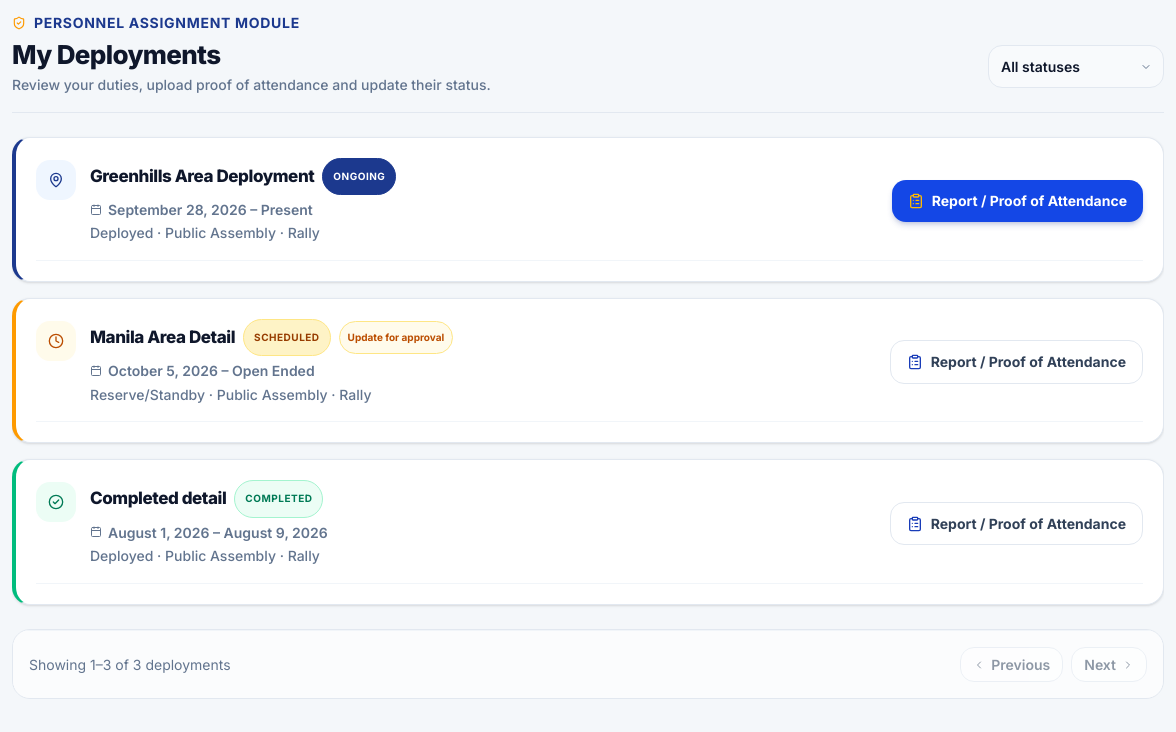
Test: EmployeeDeploymentList › shows a direct empty state for a status with no deployments
Select "Cancelled" in the dropdown named "Filter Status" at [1076, 67], box 988,45 -> 1164,88
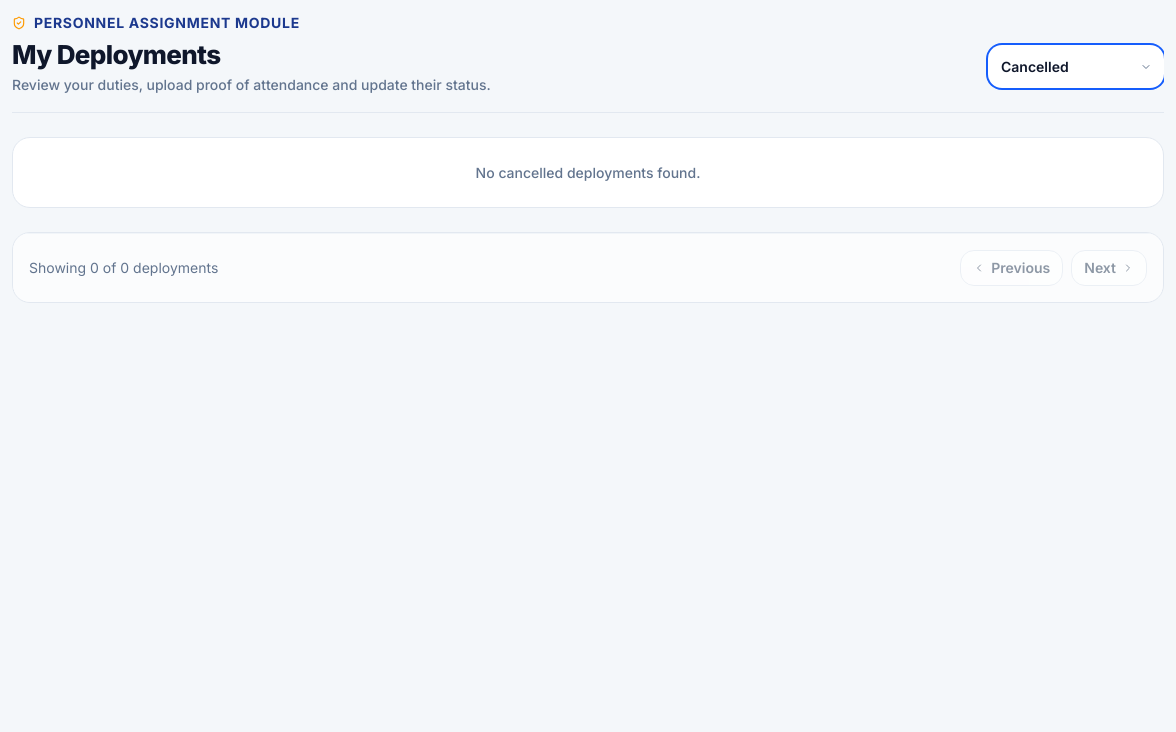
Check: the text "No cancelled deployments found." is shown, box 12,137 -> 1164,208
